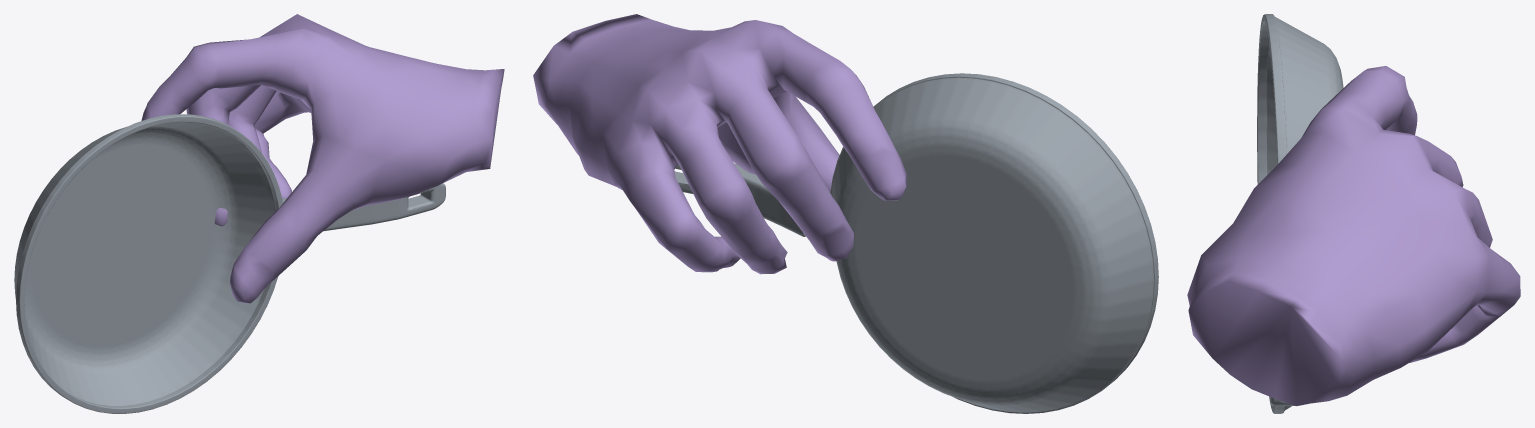
The model's file is ours_2.glb.
3 views of the same model, side by side, from view 1: azimuth 30°, elevation 25°; view 2: azimuth 150°, elevation 25°; view 3: azimuth 270°, elevation 25° (orthographic). The views are drawn at different scales.
Bounding box in the file's own units: 0.2801 × 0.164 × 0.125.
